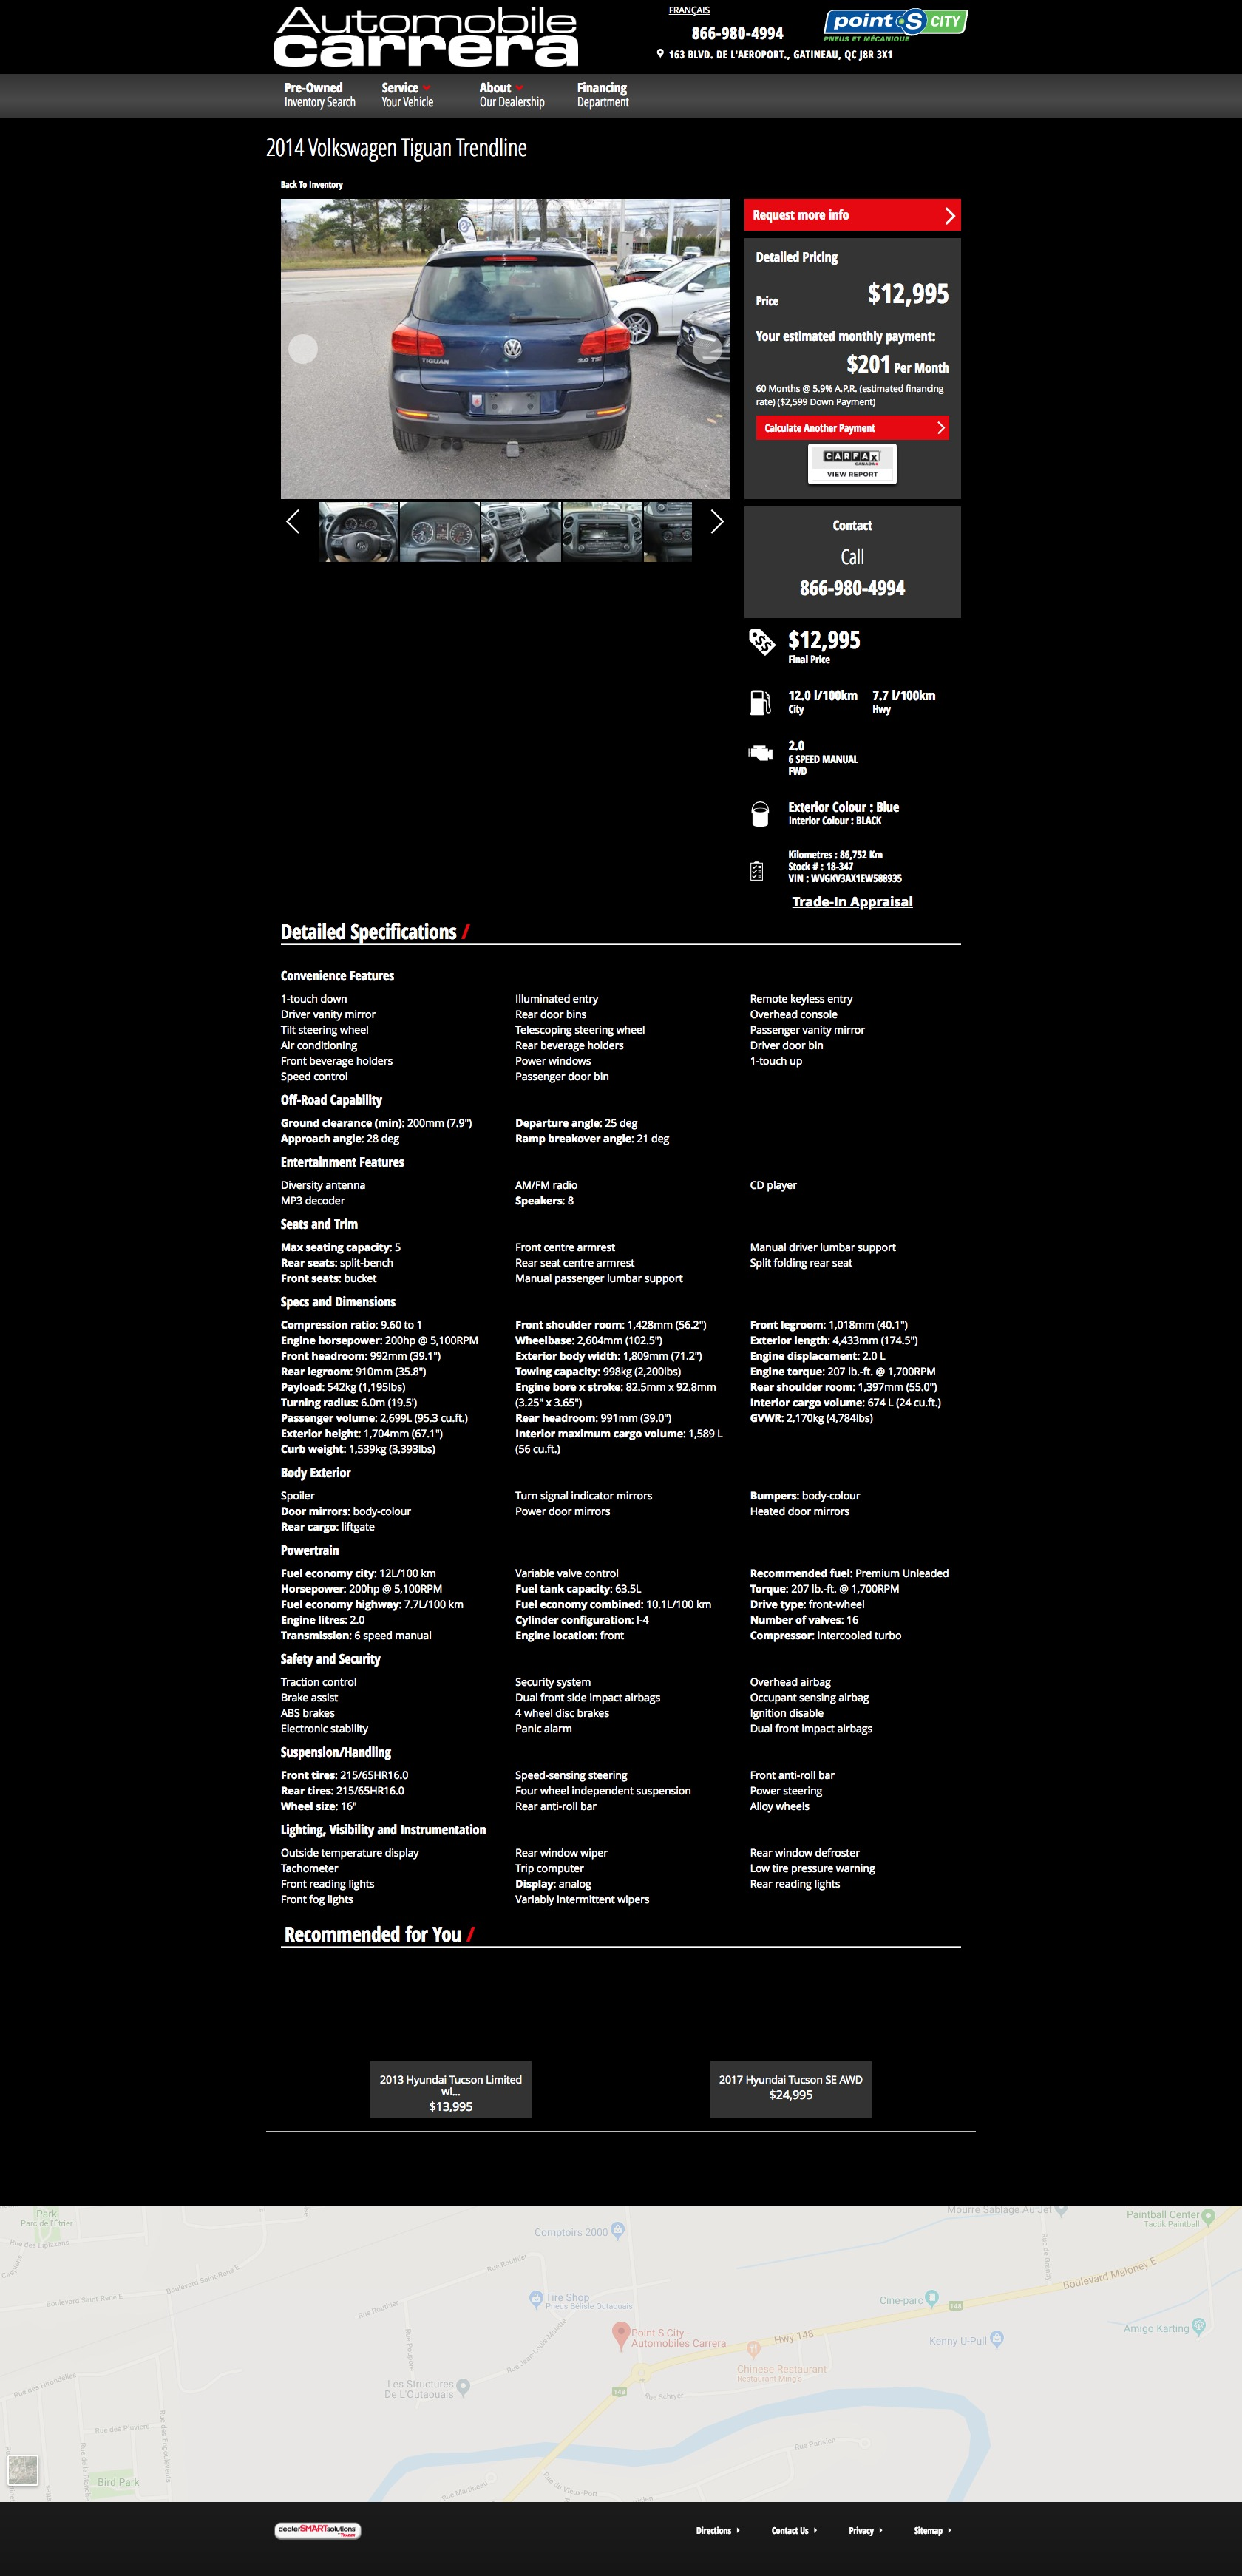arrow: (710, 509, 724, 534)
